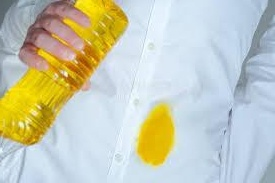mustard: (133, 100, 175, 168)
